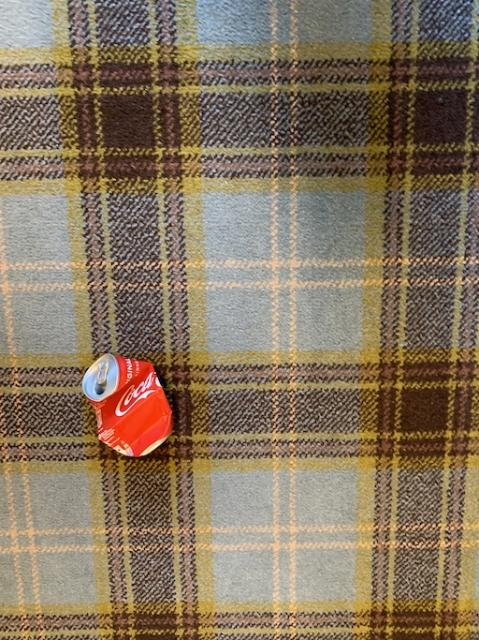metal: (82, 352, 171, 454)
